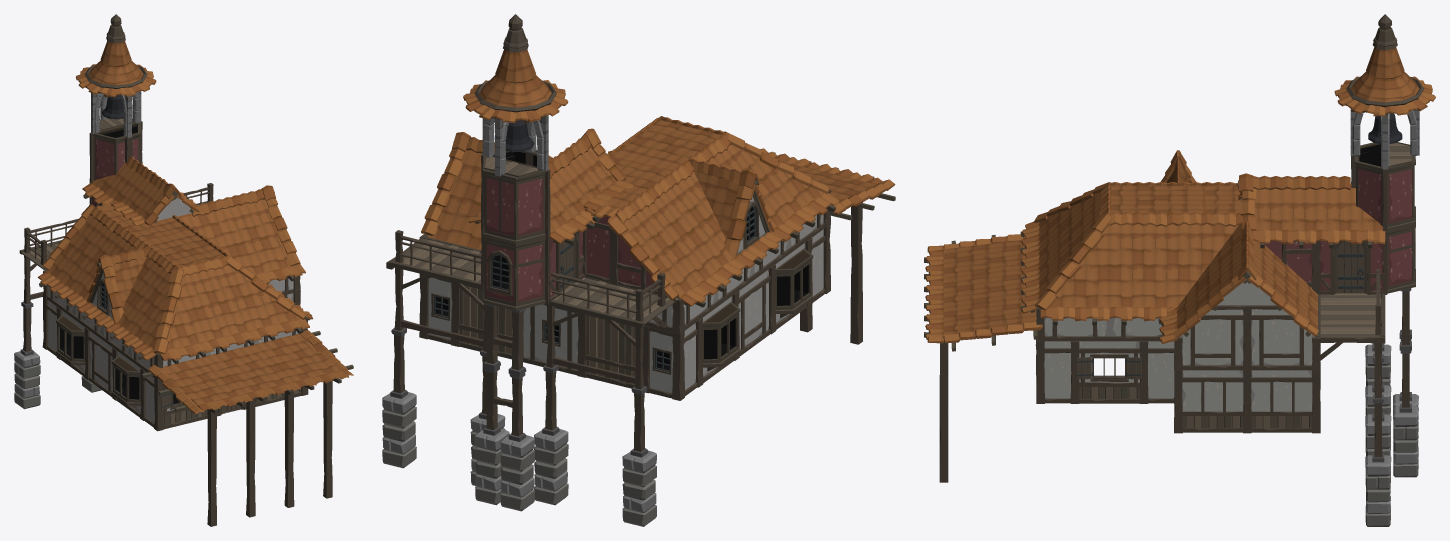
The model's file is kingdom_SM_Bld_Preset_House_10_Optimized.gltf.
3 renders of one model, left to right at view 1: azimuth 30°, elevation 25°; view 2: azimuth 150°, elevation 25°; view 3: azimuth 270°, elevation 25°, orthographic. The views are drawn at different scales.
Visible parts, largest first — view 1: SM_Bld_Preset_House_10_Optimized; view 2: SM_Bld_Preset_House_10_Optimized; view 3: SM_Bld_Preset_House_10_Optimized.
Boxes of the visible parts, left/top/right/bottom form: SM_Bld_Preset_House_10_Optimized: left=14, top=14, right=353, bottom=526; SM_Bld_Preset_House_10_Optimized: left=382, top=14, right=895, bottom=526; SM_Bld_Preset_House_10_Optimized: left=924, top=14, right=1435, bottom=526.
Bounding box in the file's own units: 11.23 × 18.13 × 18.56.
1 material, 1 textured.
